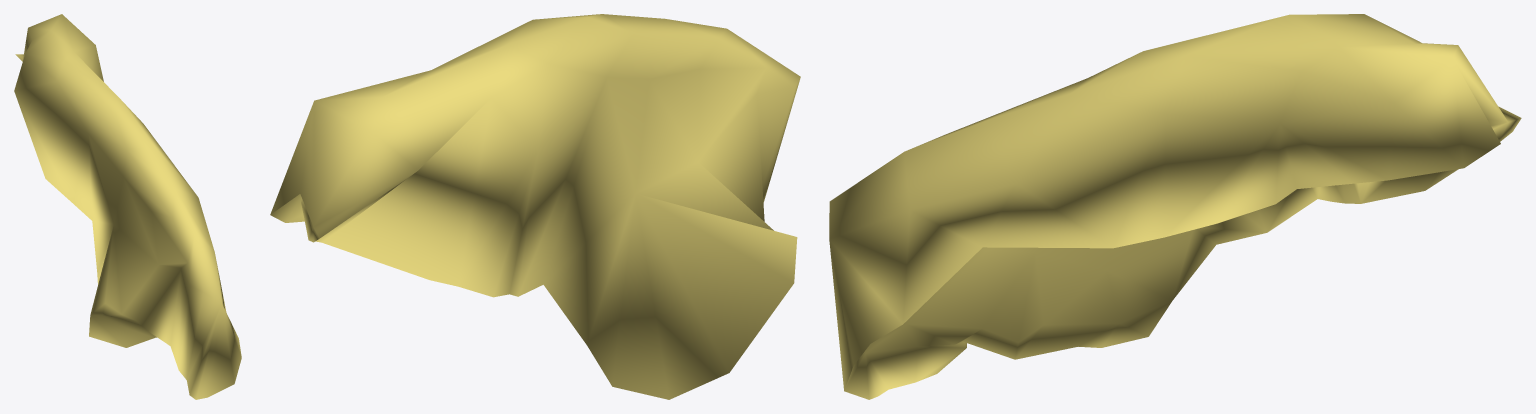
The model's file is inferior-temporal-sulcus-l.glb.
3 views of the same model, side by side, from view 1: azimuth 30°, elevation 25°; view 2: azimuth 150°, elevation 25°; view 3: azimuth 270°, elevation 25° (orthographic). The views are drawn at different scales.
Visible parts, largest first — view 1: Inferior temporal sulcus.l; view 2: Inferior temporal sulcus.l; view 3: Inferior temporal sulcus.l.
Part boxes in pixels (bbox=[...]): Inferior temporal sulcus.l: bbox=[14, 14, 241, 399]; Inferior temporal sulcus.l: bbox=[270, 14, 800, 399]; Inferior temporal sulcus.l: bbox=[829, 14, 1521, 399].
Bounding box in the file's own units: 0.011 × 0.0201 × 0.033.
